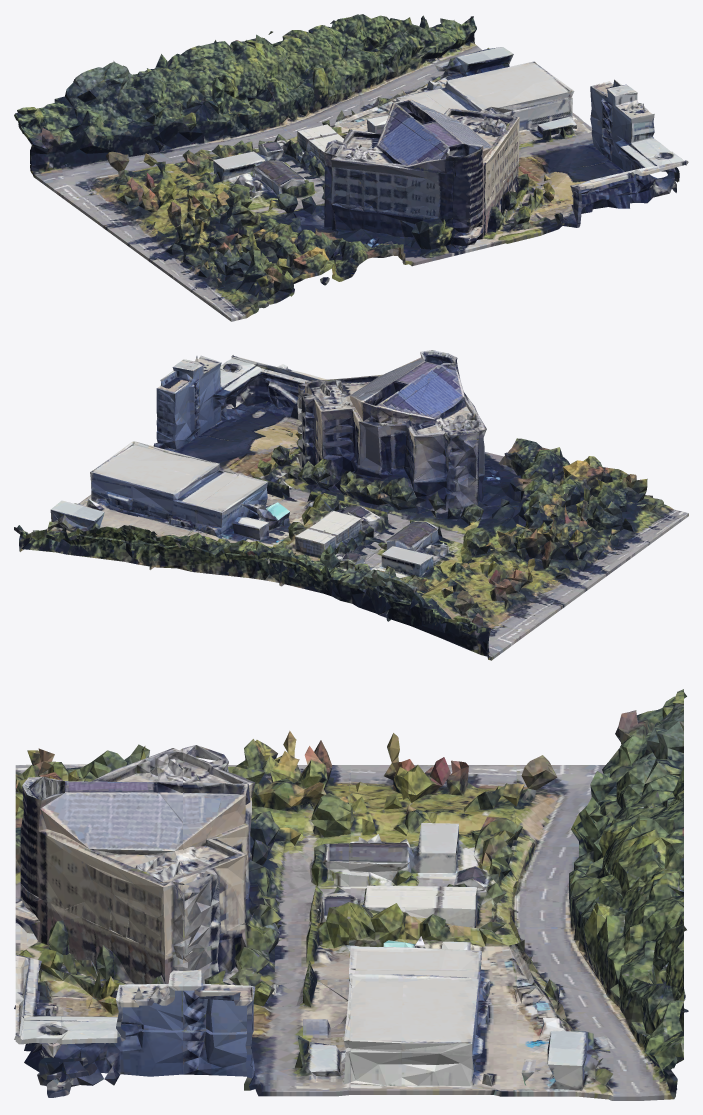
The model's file is Split11.fbx.
3 views of the same model, one above another, from view 1: azimuth 30°, elevation 25°; view 2: azimuth 150°, elevation 25°; view 3: azimuth 270°, elevation 25° (orthographic). The views are drawn at different scales.
Parts seen in each view (by area): view 1: BuildingMesh-00054; view 2: BuildingMesh-00054; view 3: BuildingMesh-00054.
Part boxes in pixels (bbox=[...]): BuildingMesh-00054: bbox=[14, 14, 688, 321]; BuildingMesh-00054: bbox=[14, 350, 688, 660]; BuildingMesh-00054: bbox=[14, 689, 688, 1100].
Size of the model in its own units: 195 by 43.93 by 161.
Materials: 7 (7 with a texture image).
